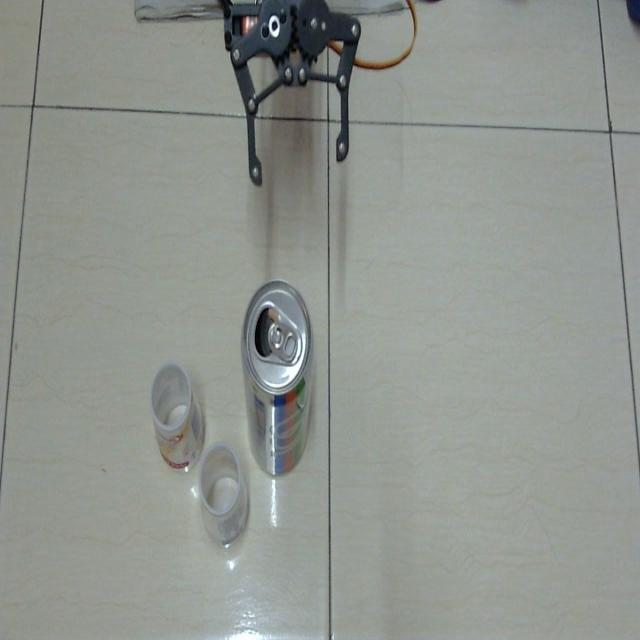Metal-stand-rotation: (238, 284, 315, 481)
Plastic-stand-rotation: (143, 358, 209, 464), (198, 438, 249, 550)
